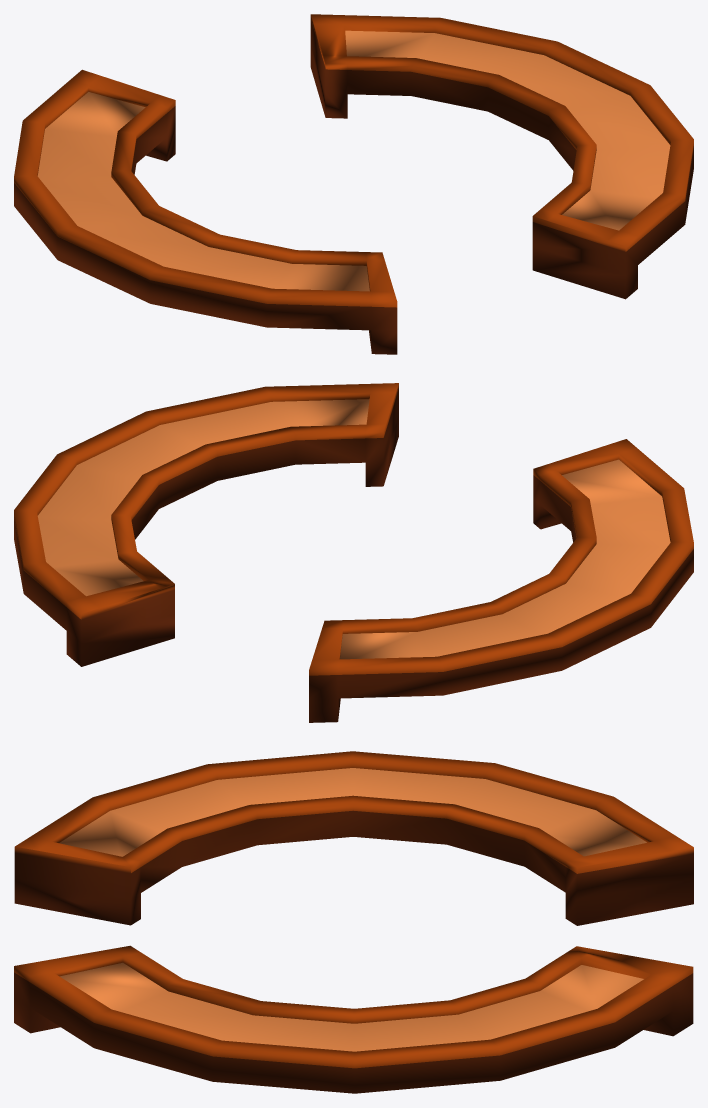
Rendered from Path_TreeBank.fbx.
3 renders of one model, top to bottom at view 1: azimuth 30°, elevation 25°; view 2: azimuth 150°, elevation 25°; view 3: azimuth 270°, elevation 25°, orthographic. The views are drawn at different scales.
Parts seen in each view (by area): view 1: Path_TreeBank; view 2: Path_TreeBank; view 3: Path_TreeBank.
Part boxes in pixels (left/top/right/bottom): Path_TreeBank: left=14, top=14, right=693, bottom=354; Path_TreeBank: left=14, top=383, right=693, bottom=722; Path_TreeBank: left=14, top=751, right=693, bottom=1093.
Bounding box in the file's own units: 420 × 36.75 × 388.
